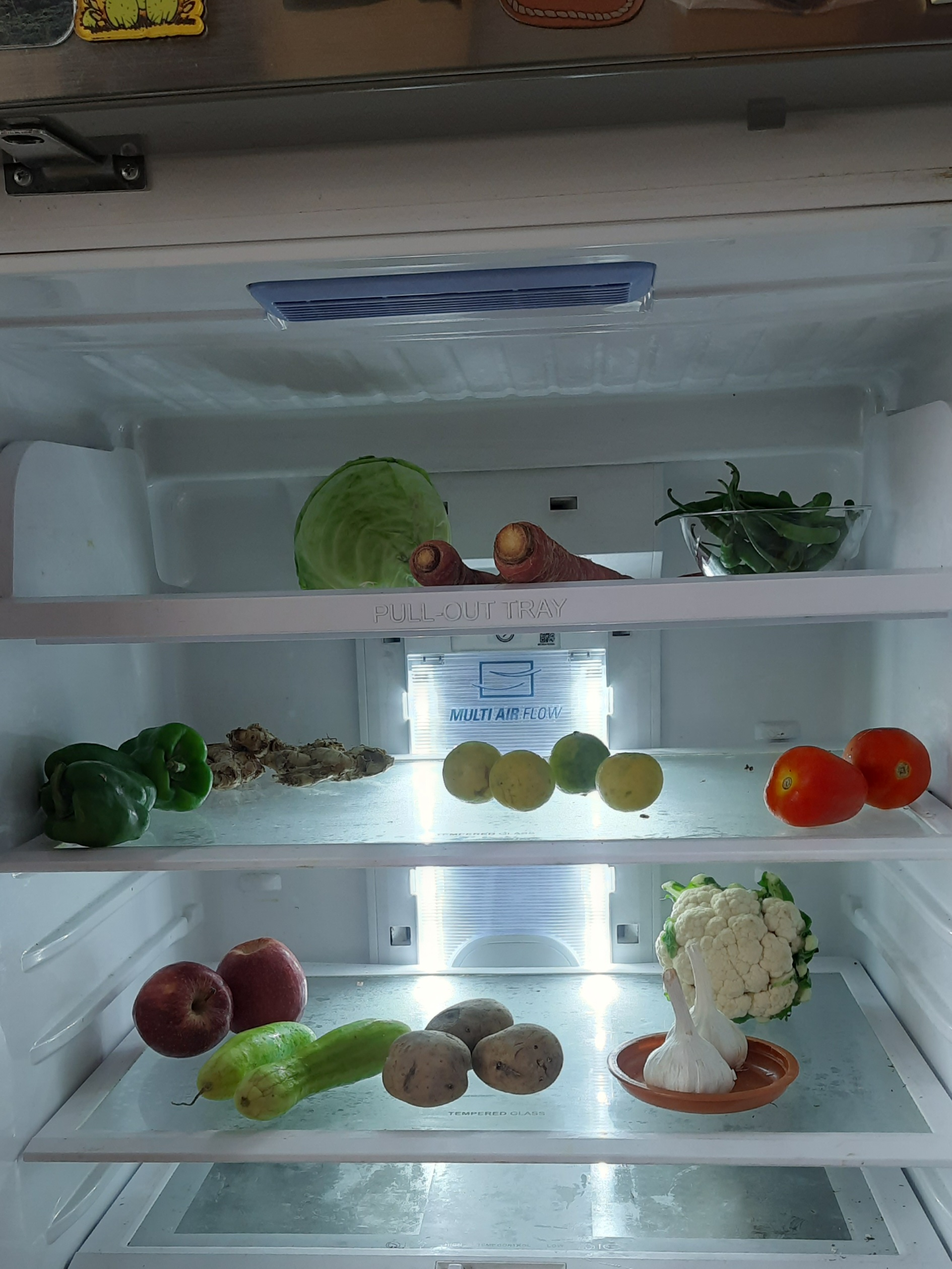apple: (136, 934, 309, 1052)
cabbage: (292, 453, 455, 582)
capsicum: (43, 731, 204, 840)
carrots: (416, 525, 650, 590)
cauliflower: (657, 879, 816, 1027)
chillies: (665, 465, 860, 573)
cucumber: (194, 1017, 410, 1124)
garlic: (648, 971, 758, 1098)
ginger: (203, 722, 396, 792)
lemon: (440, 731, 607, 812), (593, 746, 668, 813)
potato: (382, 999, 571, 1113)
tomato: (762, 723, 934, 830)
